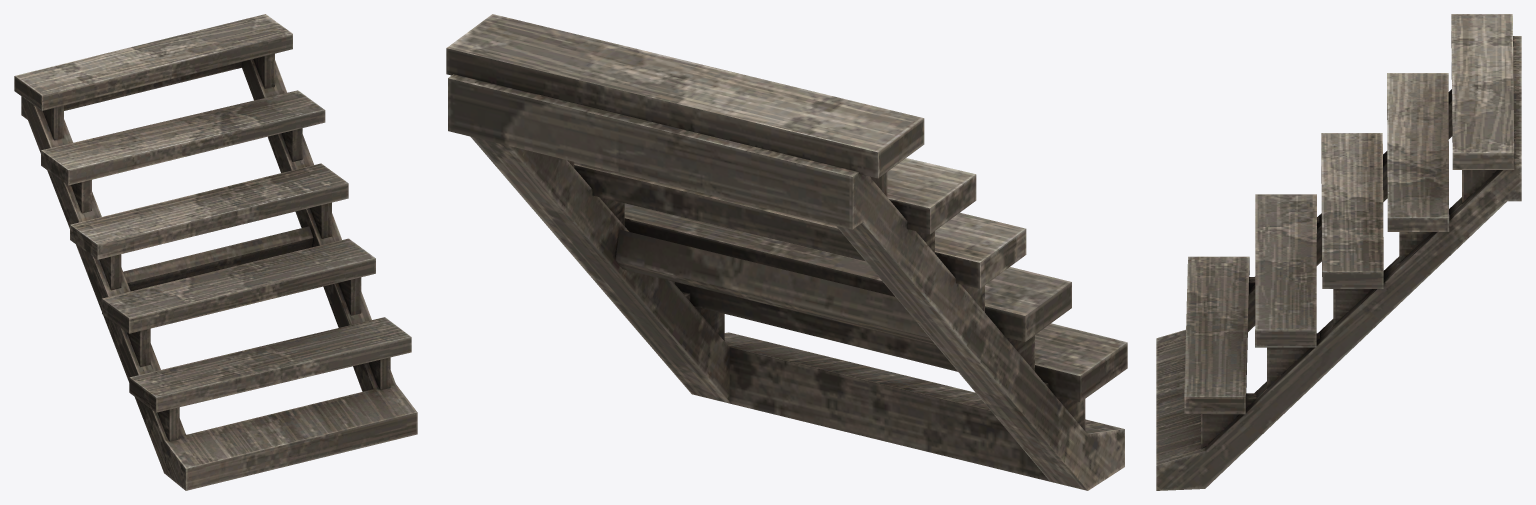
The model's file is Wood_Stairs1x1.glb.
3 views of the same model, side by side, from view 1: azimuth 30°, elevation 25°; view 2: azimuth 150°, elevation 25°; view 3: azimuth 270°, elevation 25° (orthographic). The views are drawn at different scales.
Visible parts, largest first — view 1: Wood_Stairs1x1; view 2: Wood_Stairs1x1; view 3: Wood_Stairs1x1.
Boxes of the visible parts, left/top/right/bottom form: Wood_Stairs1x1: left=14, top=14, right=417, bottom=490; Wood_Stairs1x1: left=446, top=14, right=1127, bottom=490; Wood_Stairs1x1: left=1156, top=14, right=1521, bottom=490.
Size of the model in its own units: 1.01 by 1.14 by 1.1.
Materials: 1 (1 with a texture image).
